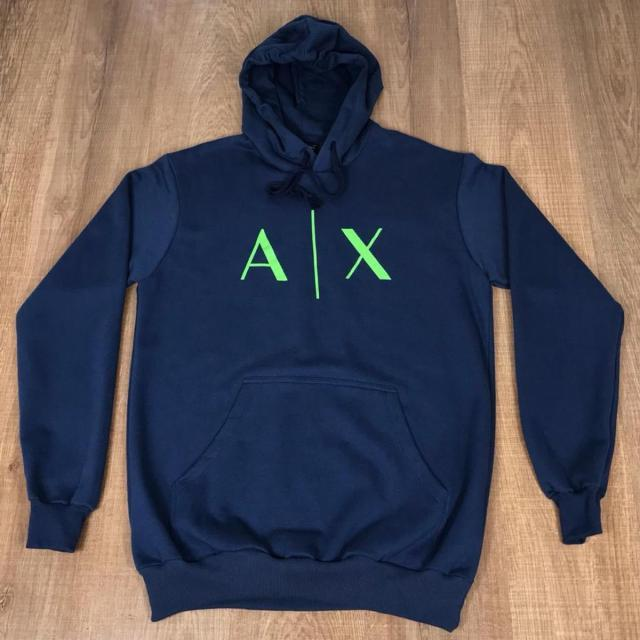sweater: (12, 12, 626, 634)
